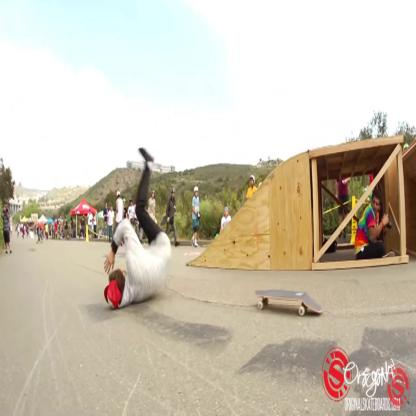Fall_Down: (102, 144, 172, 310)
